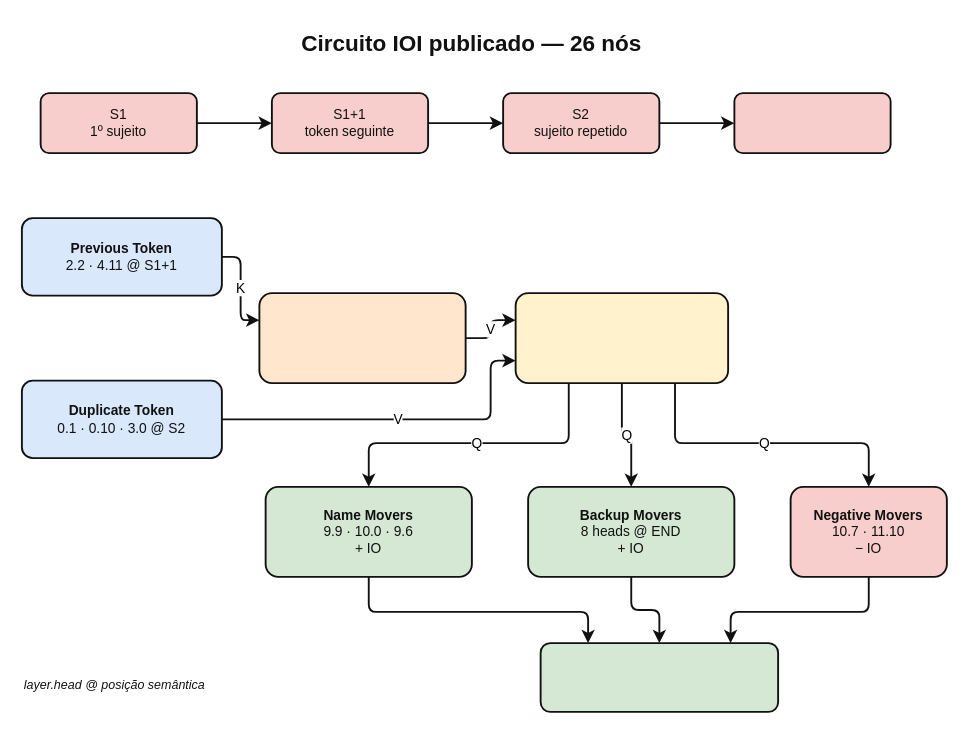
Image size: 970x734. Some labels were removed from this diagram. Each missing label, with the centre of its shape:
END prevê resposta: (x=812, y=123)
Induction 5.5 · 5.8 · 5.9 · 6.9 @ S2: (x=362, y=338)
IO − S preferência final: (x=658, y=677)
S-Inhibition 7.3 · 7.9 · 8.6 · 8.10 @ END: (x=621, y=338)
